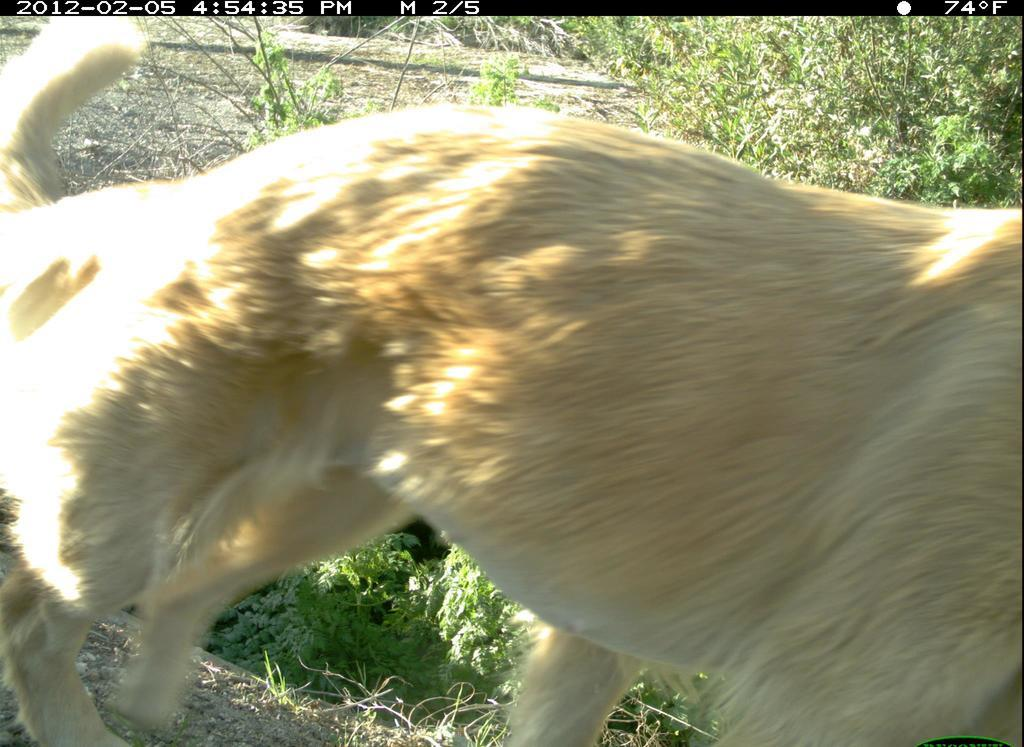dog: (1, 16, 1022, 747)
